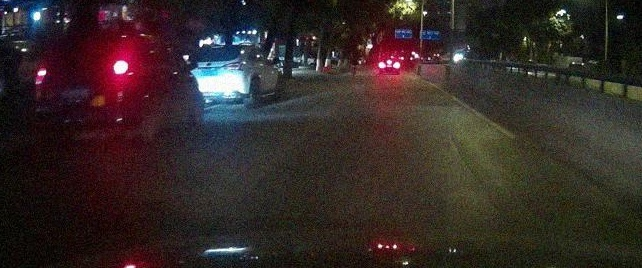L_light: (35, 67, 57, 84)
R_light: (105, 60, 129, 76)
T_light: (93, 32, 110, 38)
night-right: (35, 29, 156, 145)
